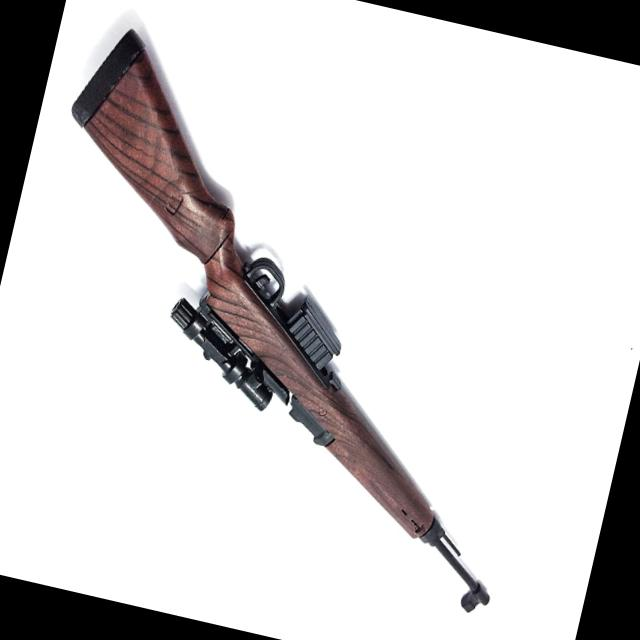Weapon: (0, 6, 601, 623)
